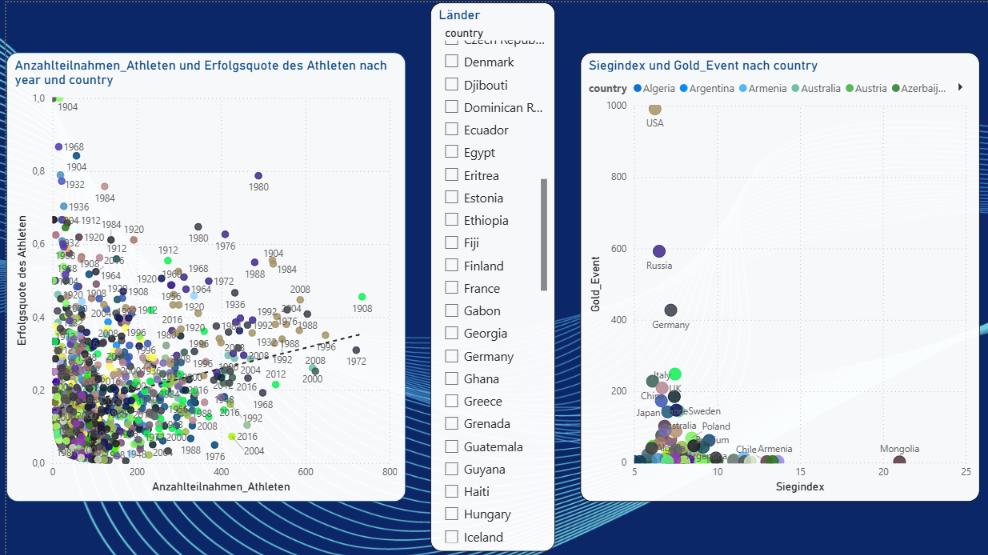

What the dashboard file says about the page in this screenshot:
{"tool":"powerbi","page":{"name":"Effizienz_Land","canvas":[1280,720],"ordinal":4},"visuals":[{"type":"slicer","title":"Länder","fields":{"Values":["public dim_country.country"]},"box":[544,0,160,704],"z":0},{"type":"scatterChart","fields":{"X":["metrics.Siegindex"],"Series":["public dim_country.country"],"Y":["kontrol.Gold_Event"]},"box":[736,64,512,576],"z":1000},{"type":"scatterChart","fields":{"X":["public dim_athlete_season.Anzahlteilnahmen_Athleten"],"Y":["public dim_athlete_season.Erfolgsquote des Athleten"],"Series":["public dim_country.country"],"Category":["public dim_date.year"]},"box":[0,64,512,576],"z":2000}]}

Visuals, with their boxes in screenshot pixels (x1, y1, x2, y2), scaled from the page's 1280x720 canvas onto the 988x555 screenshot:
"Länder" slicer: select_region(420, 0, 543, 543)
scatterChart - metrics.Siegindex x public dim_country.country: select_region(568, 49, 963, 493)
scatterChart - public dim_athlete_season.Anzahlteilnahmen_Athleten x public dim_athlete_season.Erfolgsquote des Athleten: select_region(0, 49, 395, 493)
